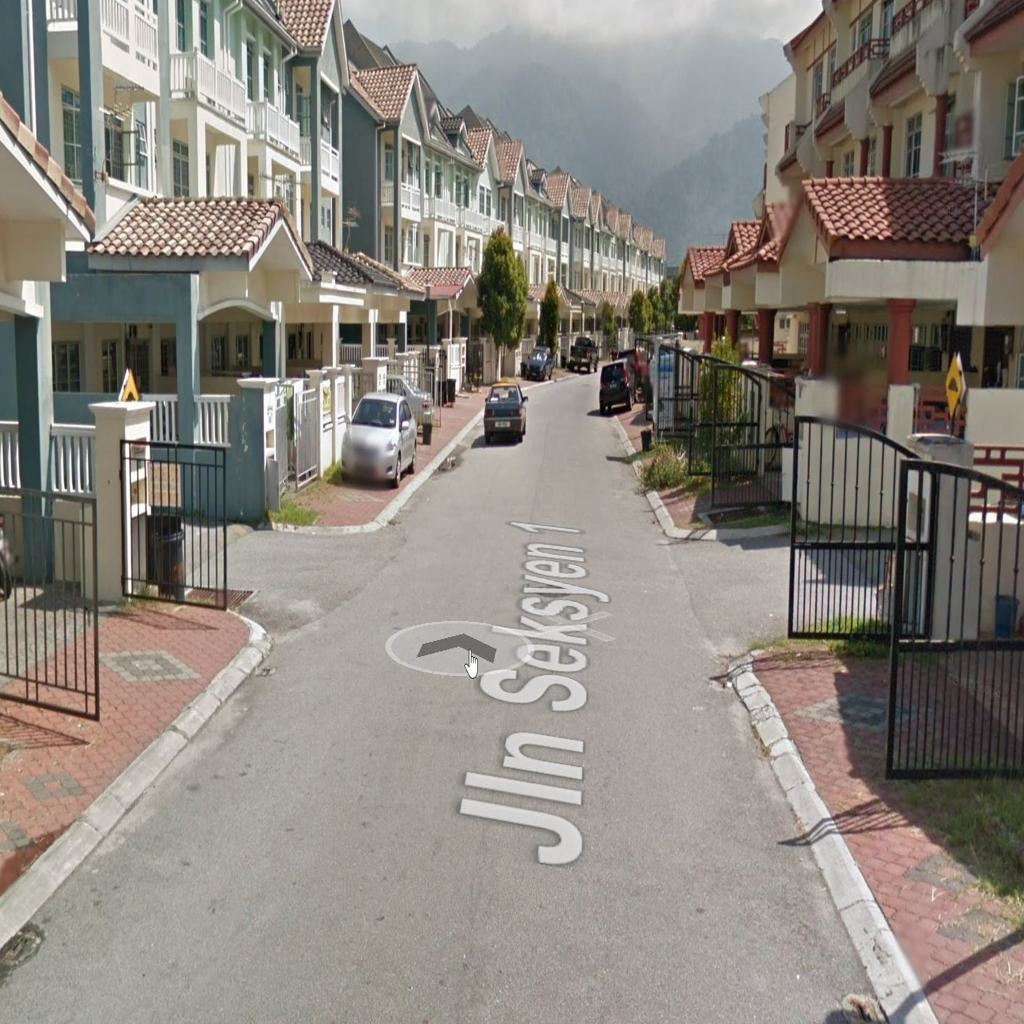Junction: (651, 486, 888, 674), (182, 487, 394, 665)
